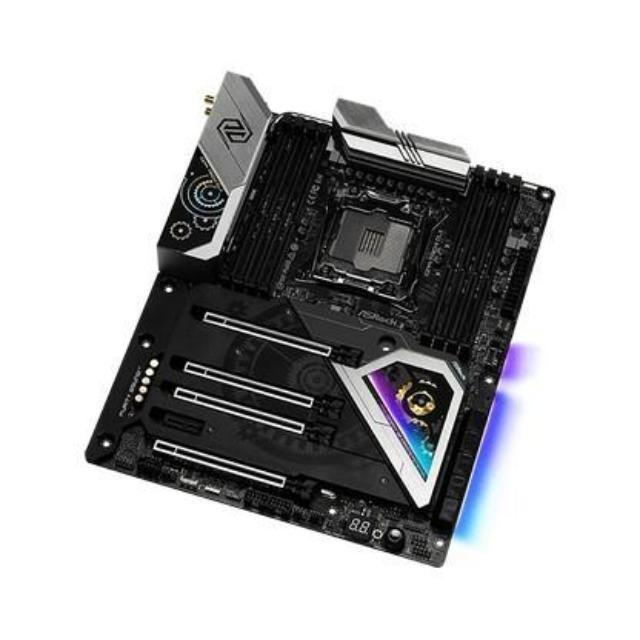Mainboard: (79, 65, 556, 577)
